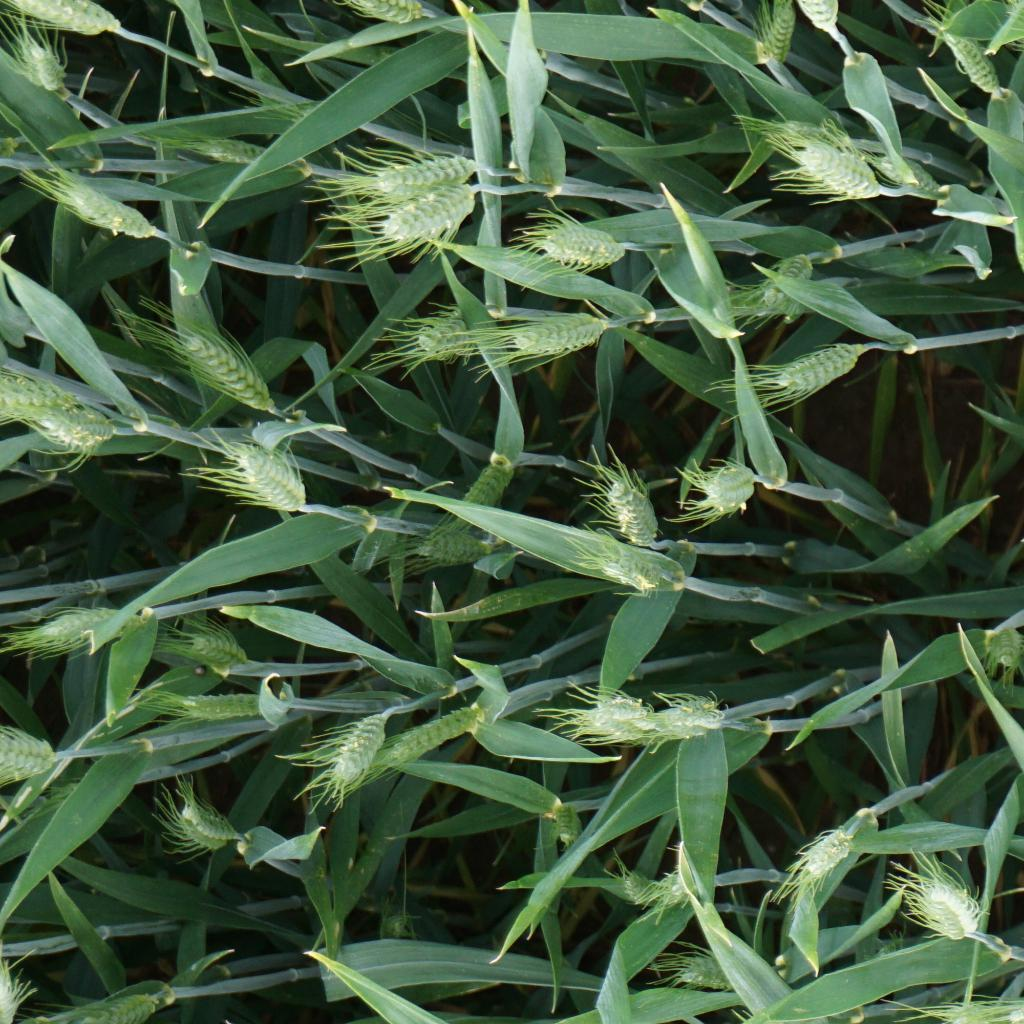0-0: (120, 311, 300, 413), (735, 89, 894, 201), (299, 697, 435, 816), (22, 157, 174, 261), (716, 339, 903, 413), (0, 585, 145, 672), (442, 307, 659, 365), (349, 182, 492, 266), (555, 532, 704, 610), (196, 425, 317, 519), (508, 201, 658, 276), (372, 291, 491, 385), (352, 701, 509, 770), (775, 803, 882, 903), (549, 685, 686, 762), (320, 148, 504, 204), (136, 593, 256, 678), (150, 767, 248, 865), (2, 0, 160, 60), (875, 870, 998, 947), (836, 138, 969, 209), (378, 517, 524, 580), (614, 849, 736, 921), (151, 118, 286, 183), (653, 467, 775, 534), (135, 678, 294, 729), (431, 447, 527, 529), (16, 393, 140, 456), (0, 18, 84, 110), (0, 353, 87, 438), (656, 947, 800, 997), (16, 985, 199, 1024), (655, 683, 756, 749), (752, 242, 828, 329), (0, 708, 74, 793), (936, 28, 1011, 107), (598, 467, 664, 553), (746, 0, 806, 82), (334, 0, 448, 36), (981, 618, 1023, 678), (798, 0, 856, 42), (549, 803, 582, 846)
